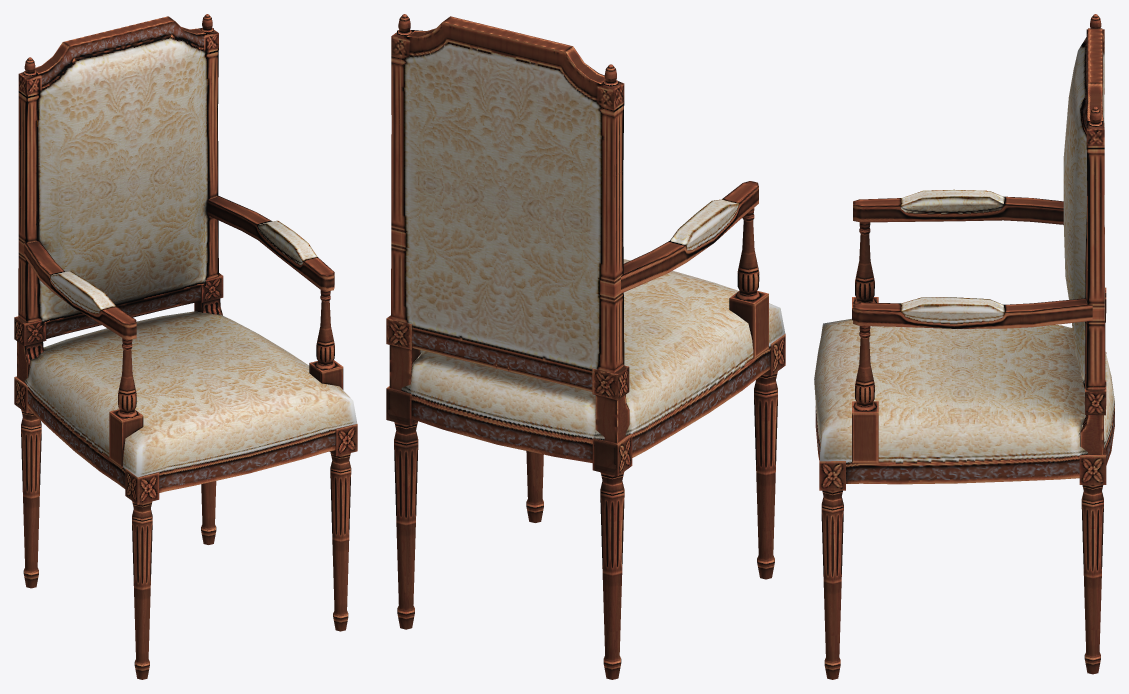
The model's file is Chair04A.FBX.
3 renders of one model, left to right at view 1: azimuth 30°, elevation 25°; view 2: azimuth 150°, elevation 25°; view 3: azimuth 270°, elevation 25°, orthographic. The views are drawn at different scales.
Parts seen in each view (by area): view 1: Chair04A; view 2: Chair04A; view 3: Chair04A.
Part boxes in pixels (x1,y1,x2,y2): Chair04A: (14,14,357,679); Chair04A: (386,14,785,679); Chair04A: (814,14,1114,679).
Bounding box in the file's own units: 68.59 × 74.45 × 156.
